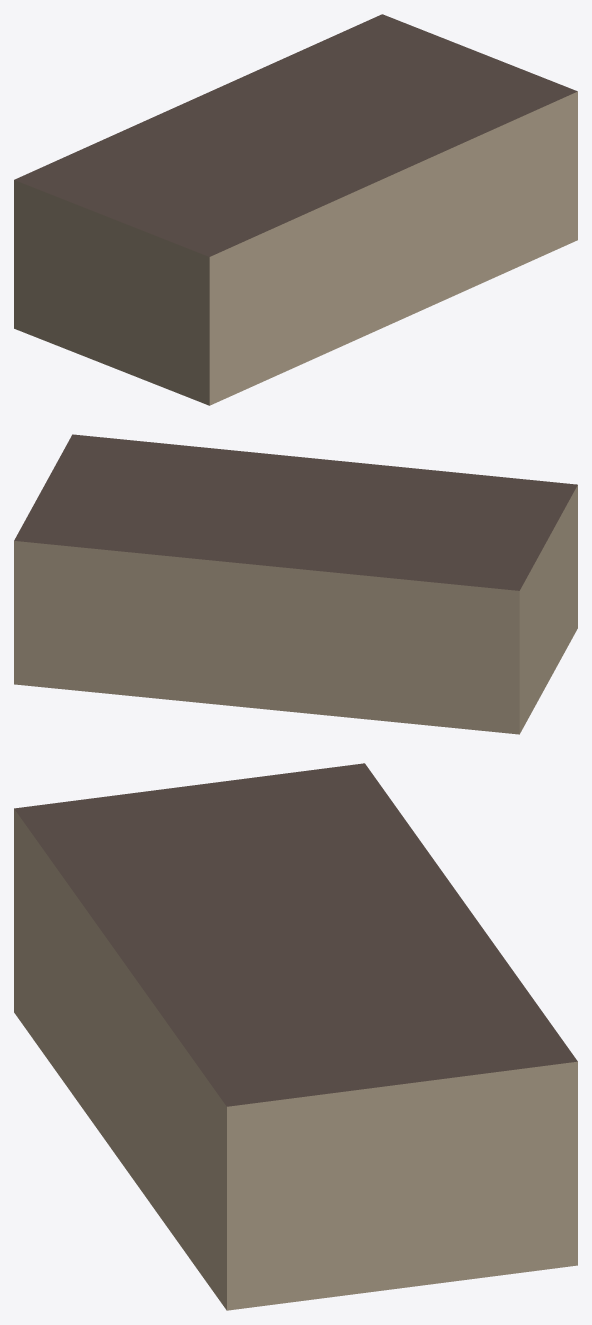
3 renders of one model, top to bottom at view 1: azimuth 30°, elevation 25°; view 2: azimuth 150°, elevation 25°; view 3: azimuth 270°, elevation 25°, orthographic. The views are drawn at different scales.
Parts seen in each view (by area): view 1: HP-w859457403; view 2: HP-w859457403; view 3: HP-w859457403.
Part boxes in pixels (left/top/right/bottom): HP-w859457403: left=14, top=14, right=577, bottom=405; HP-w859457403: left=14, top=434, right=577, bottom=734; HP-w859457403: left=14, top=763, right=577, bottom=1310.
Bounding box in the file's own units: 32.52 × 9 × 22.56.
